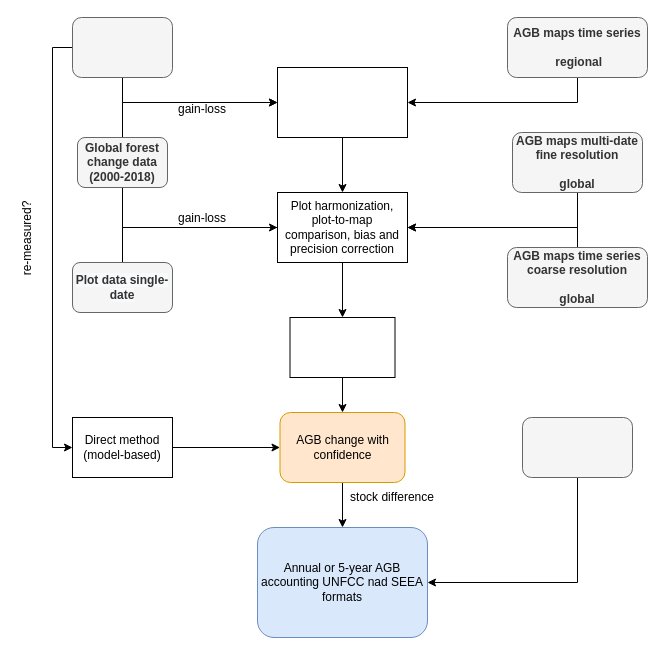
This 665x655 diagram has some shape labels left out. The centre of each missing label's shape, as x and y in pixels:
"AGB multi-date mapping regional" goes at (342,102).
"FRA data 2000 2010 2015" goes at (577,447).
"Indirect method (differencing)" goes at (342,347).
"Plot data multi-date" goes at (122,47).
